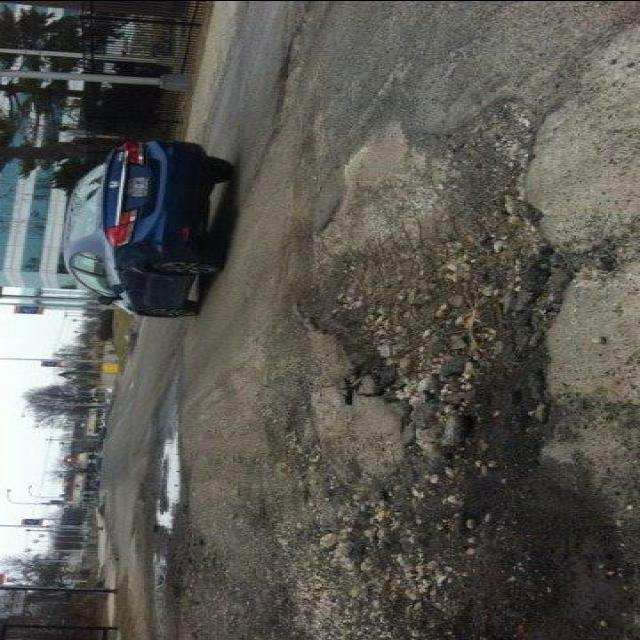jalan retak: (349, 200, 489, 272), (310, 362, 438, 436), (236, 110, 292, 194)
lubang: (292, 97, 592, 434), (231, 409, 640, 639), (138, 367, 198, 540), (264, 0, 332, 119), (130, 536, 196, 640)
